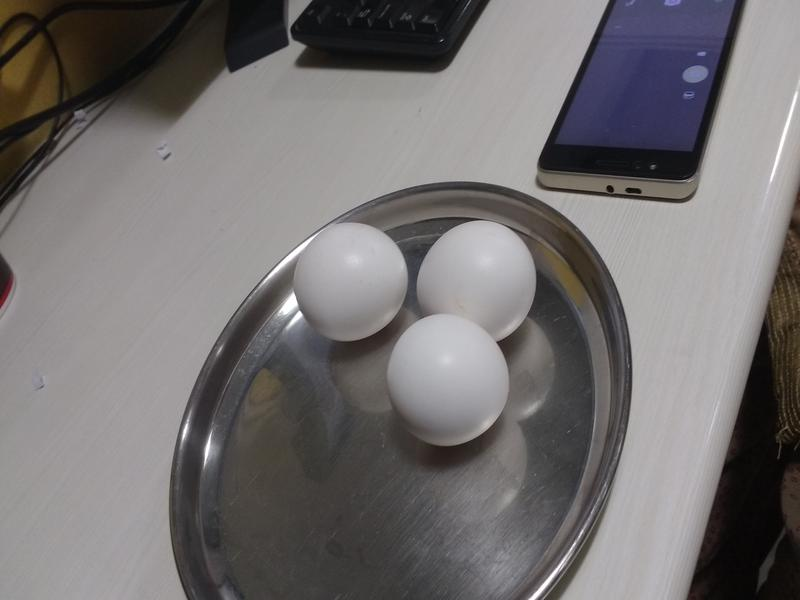egg: (389, 314, 513, 445)
